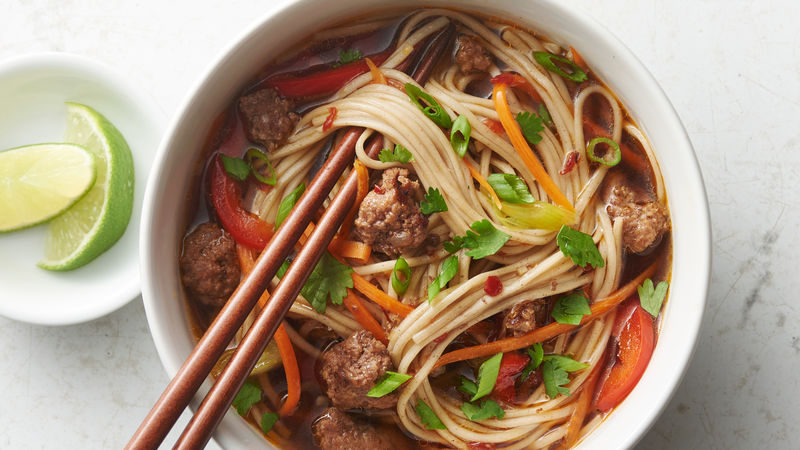Soba: (243, 50, 667, 450)
